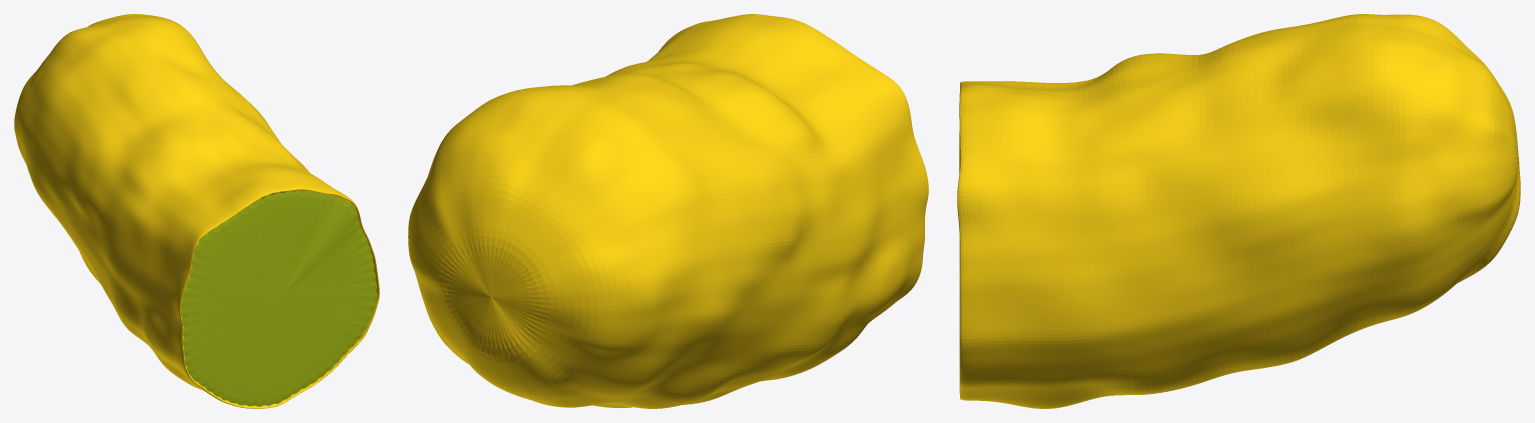
File: ogurets_obrez.fbx
The picture shows the model from 3 angles, left to right: view 1: azimuth 30°, elevation 25°; view 2: azimuth 150°, elevation 25°; view 3: azimuth 270°, elevation 25°; orthographic projection. The views are drawn at different scales.
Parts seen in each view (by area): view 1: Circle, Circle.001; view 2: Circle; view 3: Circle.
Boxes of the visible parts, <box> form: Circle: <box>14,14,379,408</box>; Circle.001: <box>181,190,377,406</box>; Circle: <box>408,14,928,408</box>; Circle: <box>957,14,1520,408</box>.
Size of the model in its own units: 122 by 152 by 212.
